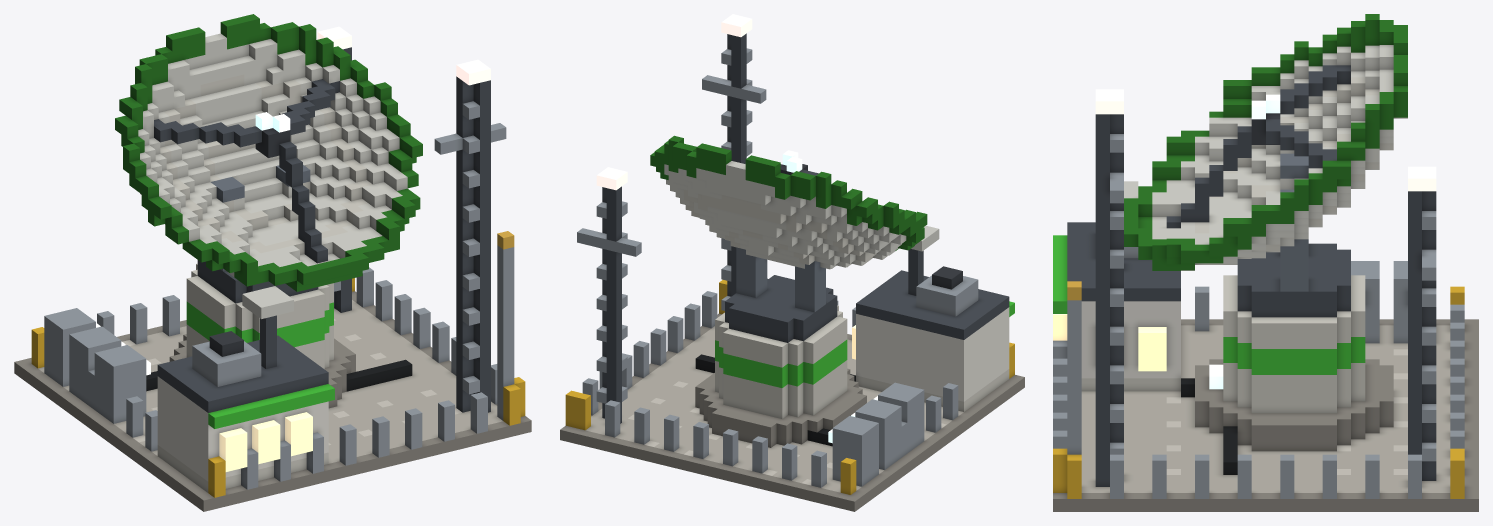
The model's file is cm_uplink_3.glb.
3 renders of one model, left to right at view 1: azimuth 30°, elevation 25°; view 2: azimuth 150°, elevation 25°; view 3: azimuth 270°, elevation 25°, orthographic. The views are drawn at different scales.
Visible parts, largest first — view 1: cm_uplink_3_body; view 2: cm_uplink_3_body; view 3: cm_uplink_3_body.
Part boxes in pixels (x1,y1,x2,y2): cm_uplink_3_body: (14,14,531,511); cm_uplink_3_body: (560,14,1024,511); cm_uplink_3_body: (1053,14,1478,511).
Bounding box in the file's own units: 1.88 × 1.94 × 1.88.
1 material, 1 textured.
